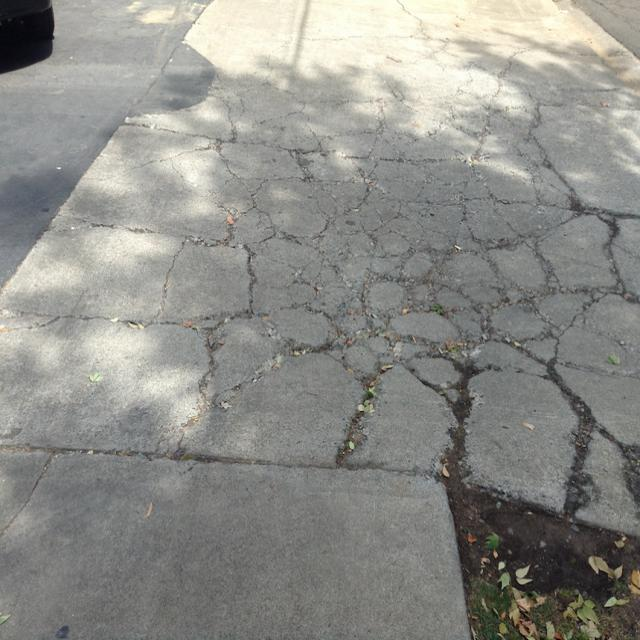Drain Hole: (154, 118, 640, 496)
